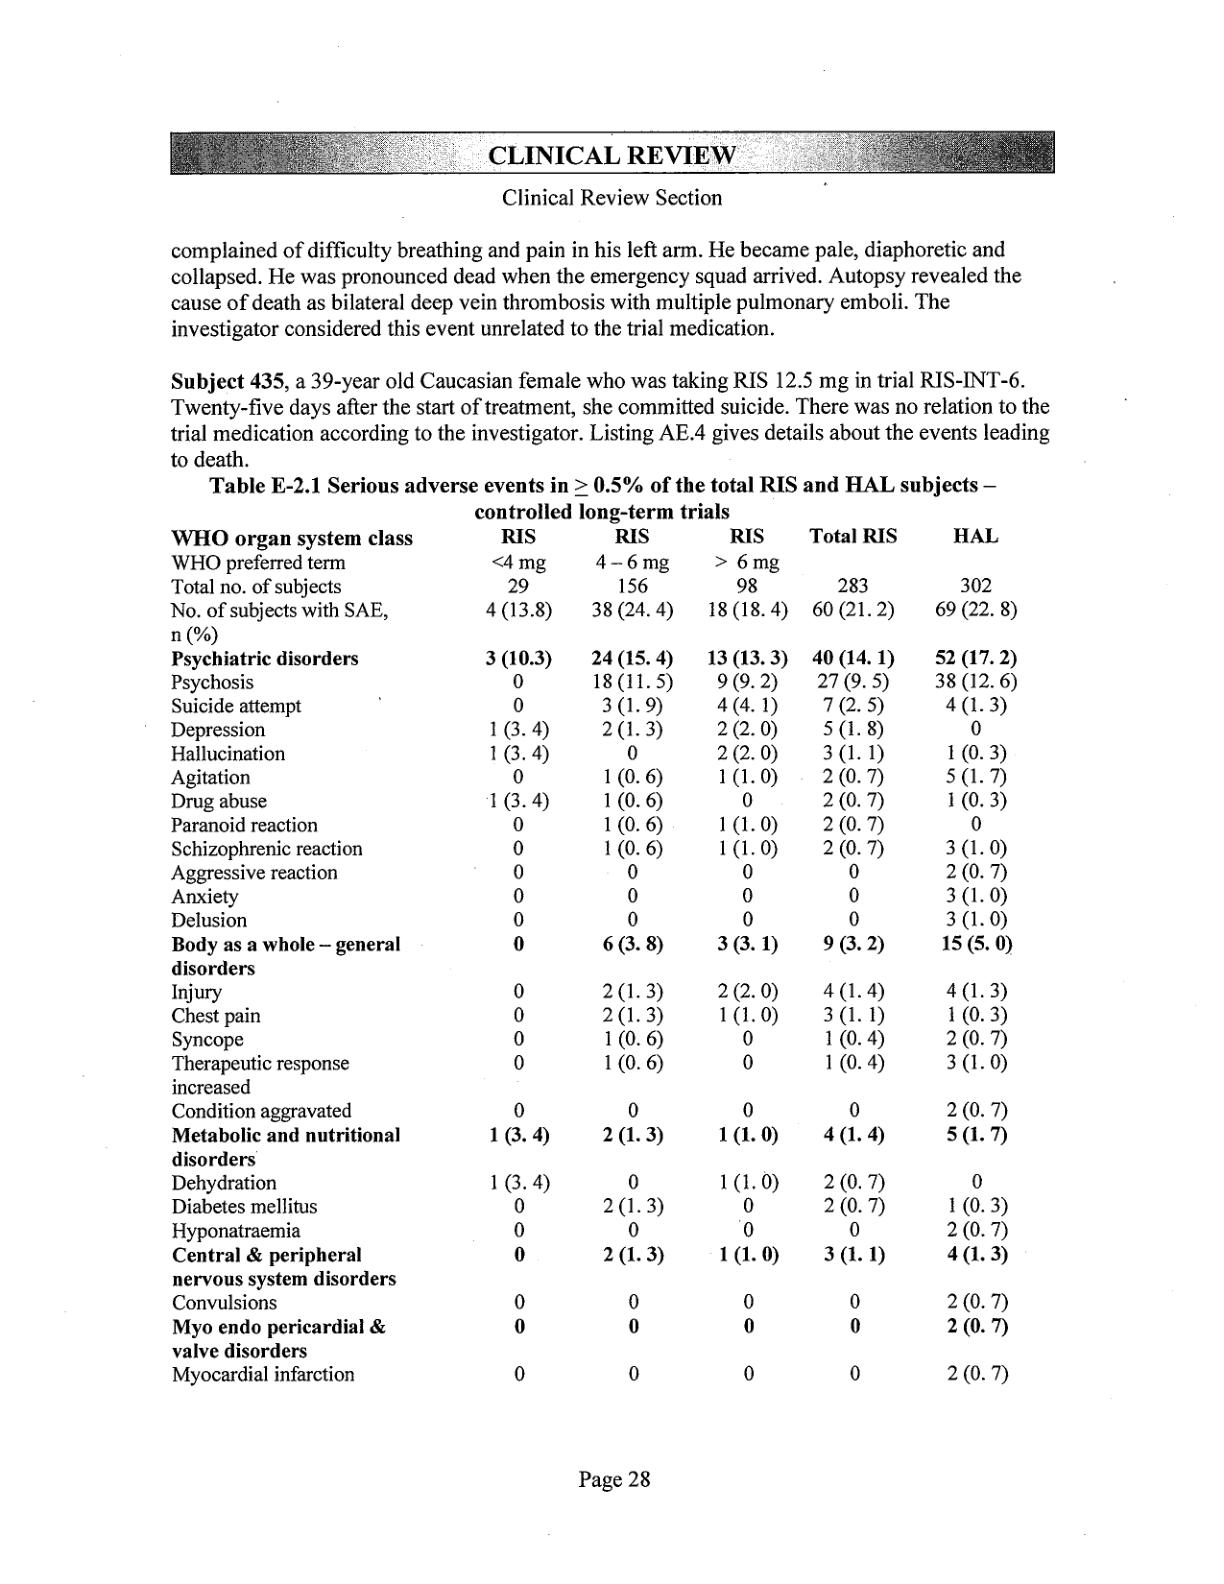nolines: (168, 526, 1022, 1391)
